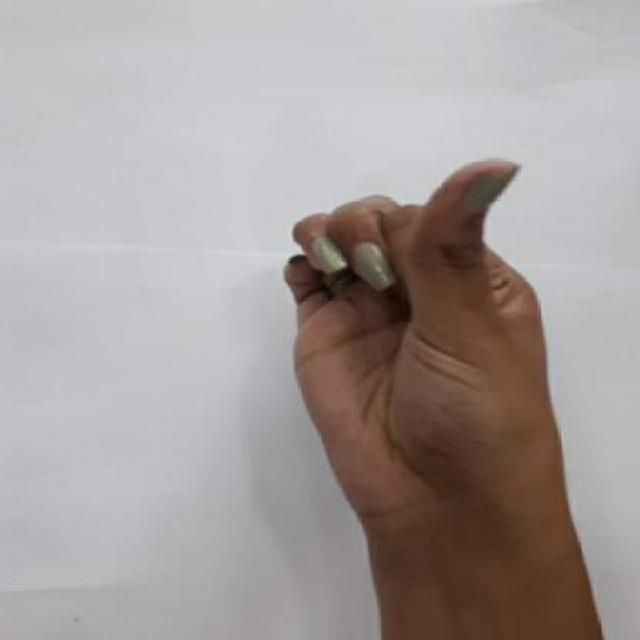without_gloves: (252, 146, 591, 616)
